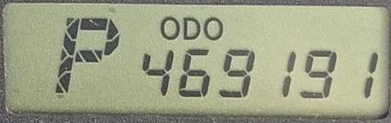1: (279, 50, 296, 98), (362, 51, 379, 99)
4: (140, 49, 174, 97)
6: (177, 47, 212, 98)
9: (216, 48, 256, 98), (298, 49, 337, 98)
X: (52, 15, 121, 97), (159, 16, 180, 40), (203, 17, 224, 40), (182, 16, 201, 41)
